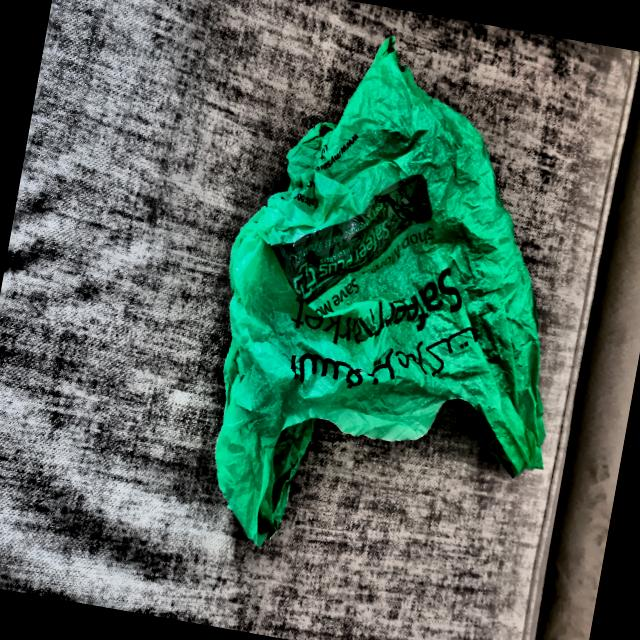plastic bag: (188, 18, 612, 592)
